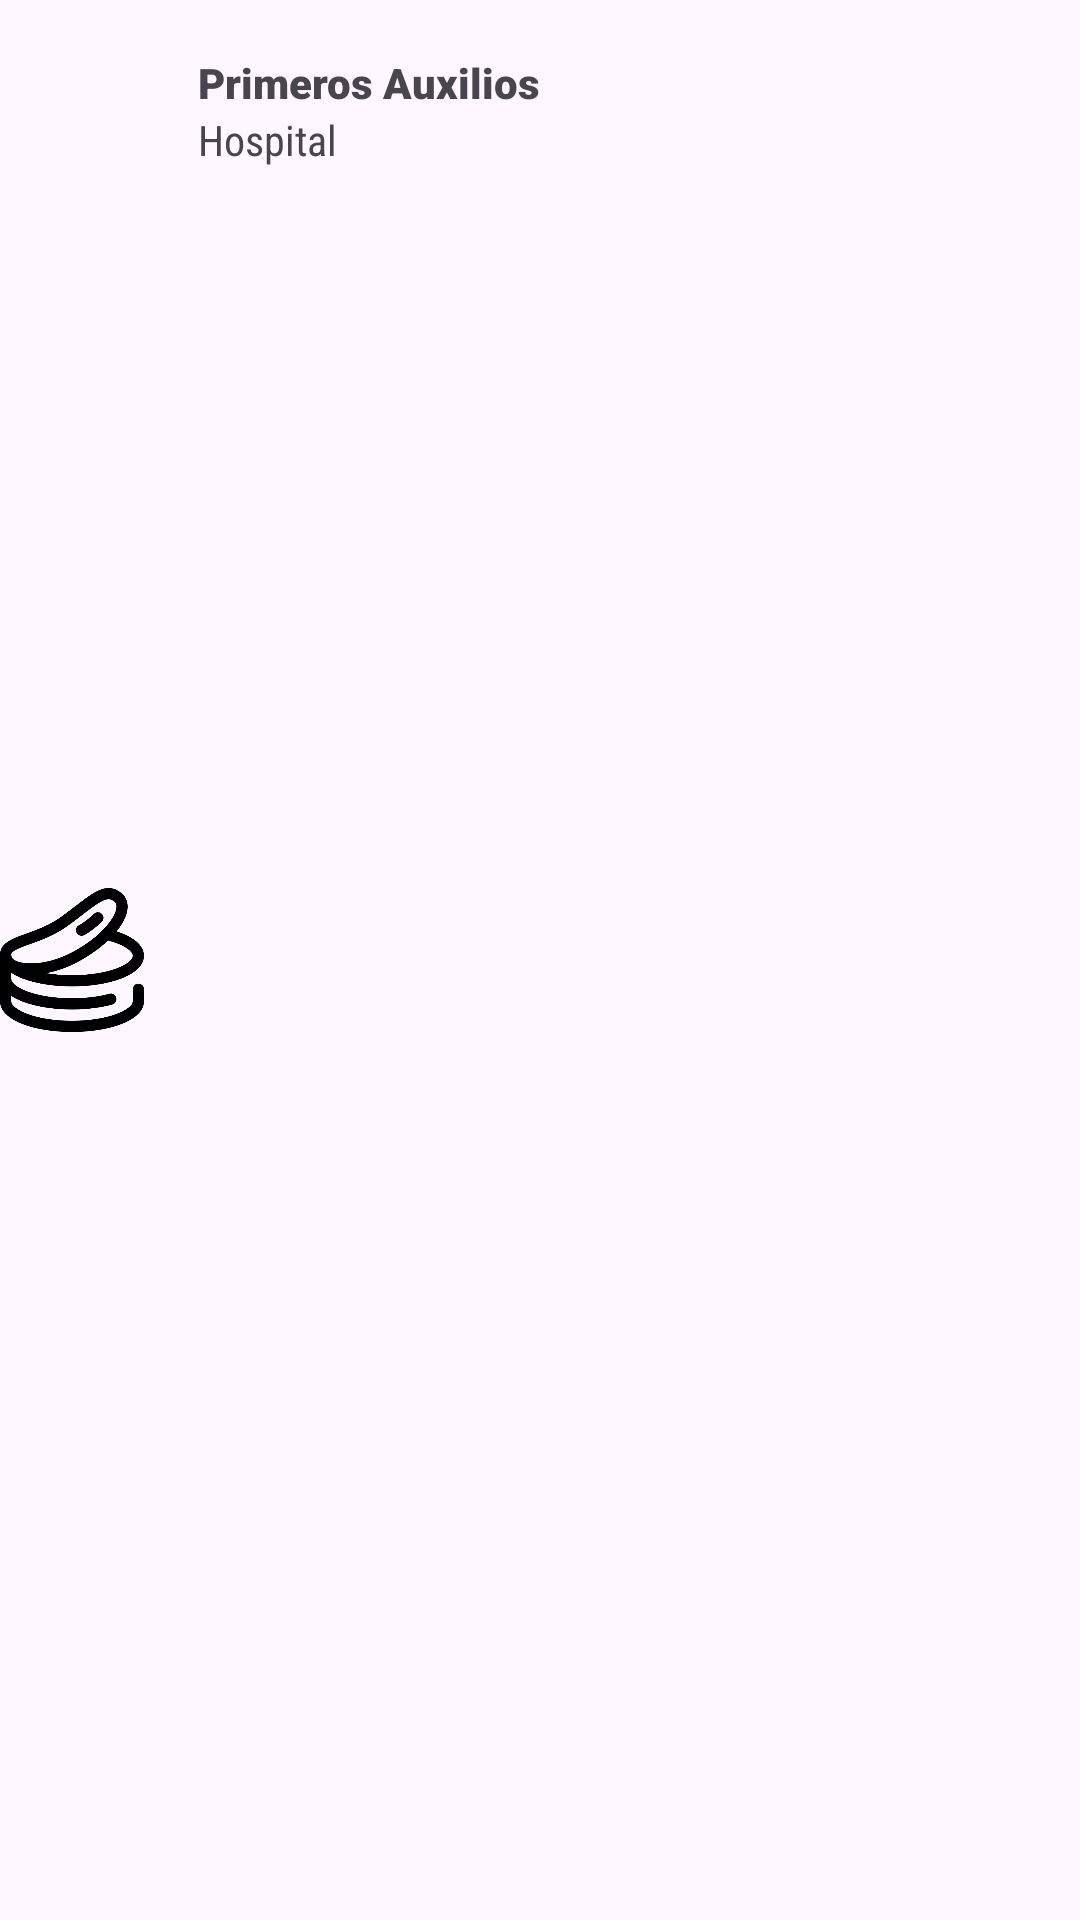

Named icons in this screenshot (1080px×1920px) and their bounding boxes, (x1, y1, x2, y2):
cannedf: (0, 888, 144, 1032)
